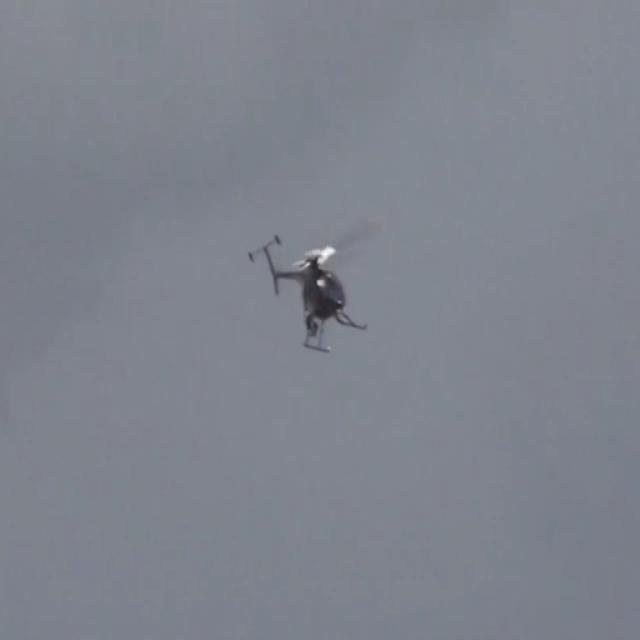Helicopter: (240, 198, 389, 370)
